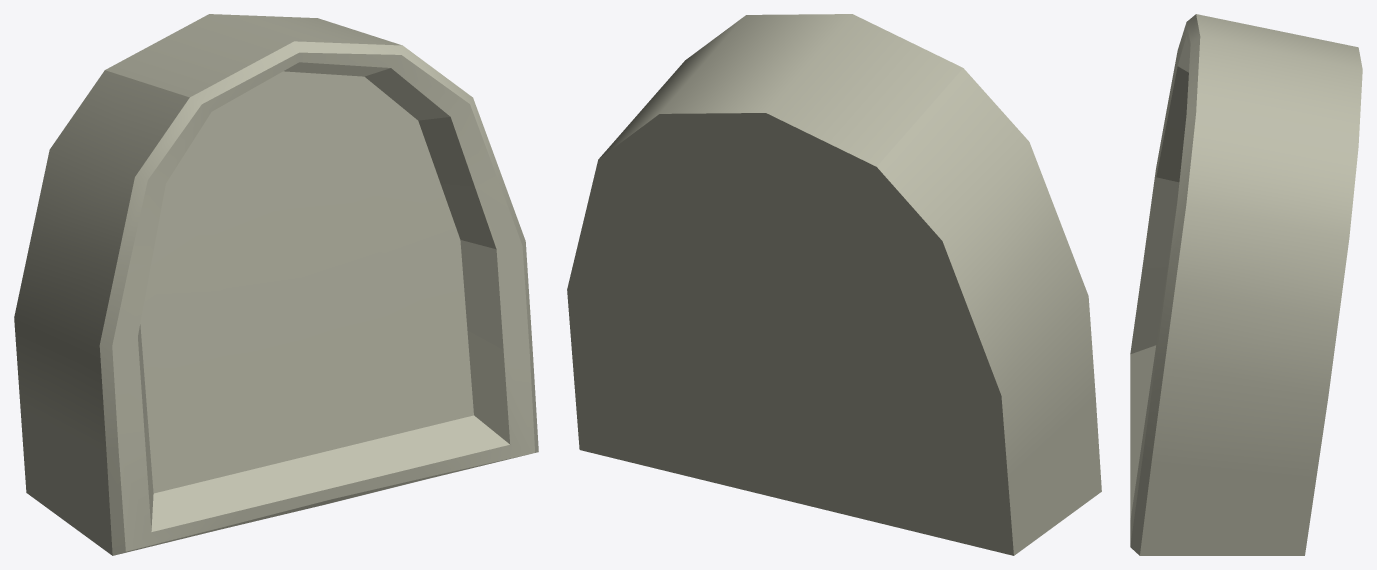
Rendered from Lapida_4_FBX.fbx.
3 views of the same model, side by side, from view 1: azimuth 30°, elevation 25°; view 2: azimuth 150°, elevation 25°; view 3: azimuth 270°, elevation 25° (orthographic). The views are drawn at different scales.
Parts seen in each view (by area): view 1: Lapida_4; view 2: Lapida_4; view 3: Lapida_4.
Boxes of the visible parts, bbox=[...] form: Lapida_4: bbox=[14, 14, 538, 555]; Lapida_4: bbox=[567, 14, 1101, 555]; Lapida_4: bbox=[1130, 14, 1362, 555].
Size of the model in its own units: 0.6425 by 0.6334 by 0.3176.
